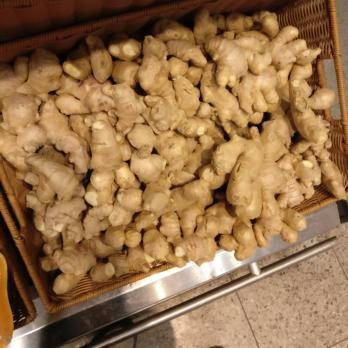Ginger: (3, 12, 331, 133), (39, 214, 304, 295), (6, 142, 337, 203)
